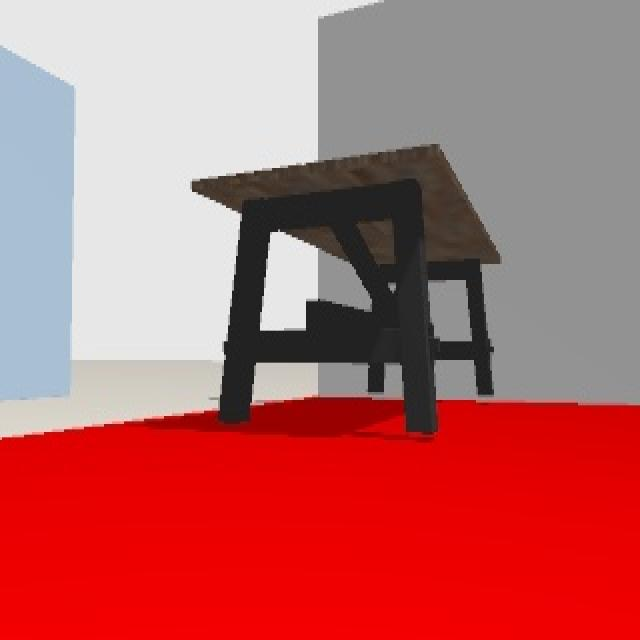dining: (191, 142, 505, 438)
